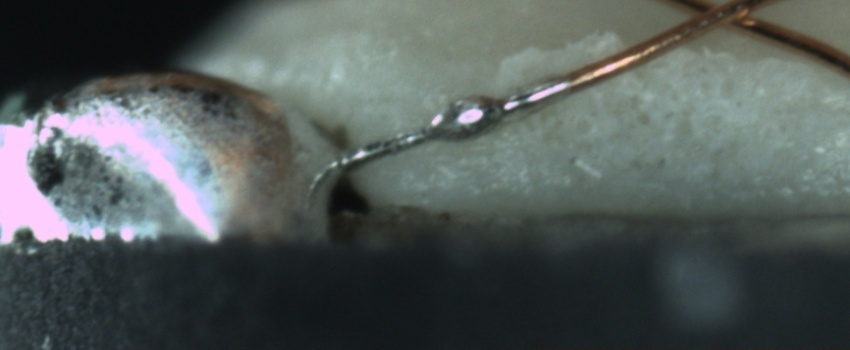CL: (682, 0, 770, 33)
DL: (407, 128, 524, 169)
TB: (420, 87, 509, 145)
TS: (342, 79, 571, 170)
TTCW: (336, 53, 621, 173)
